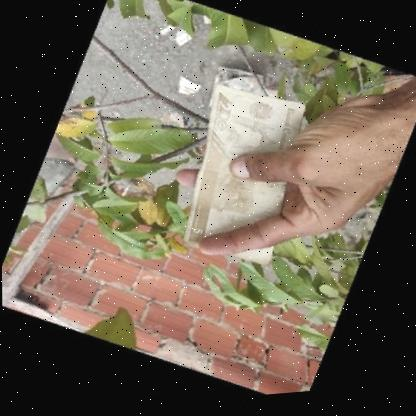five-back-vef: (180, 80, 308, 276)
